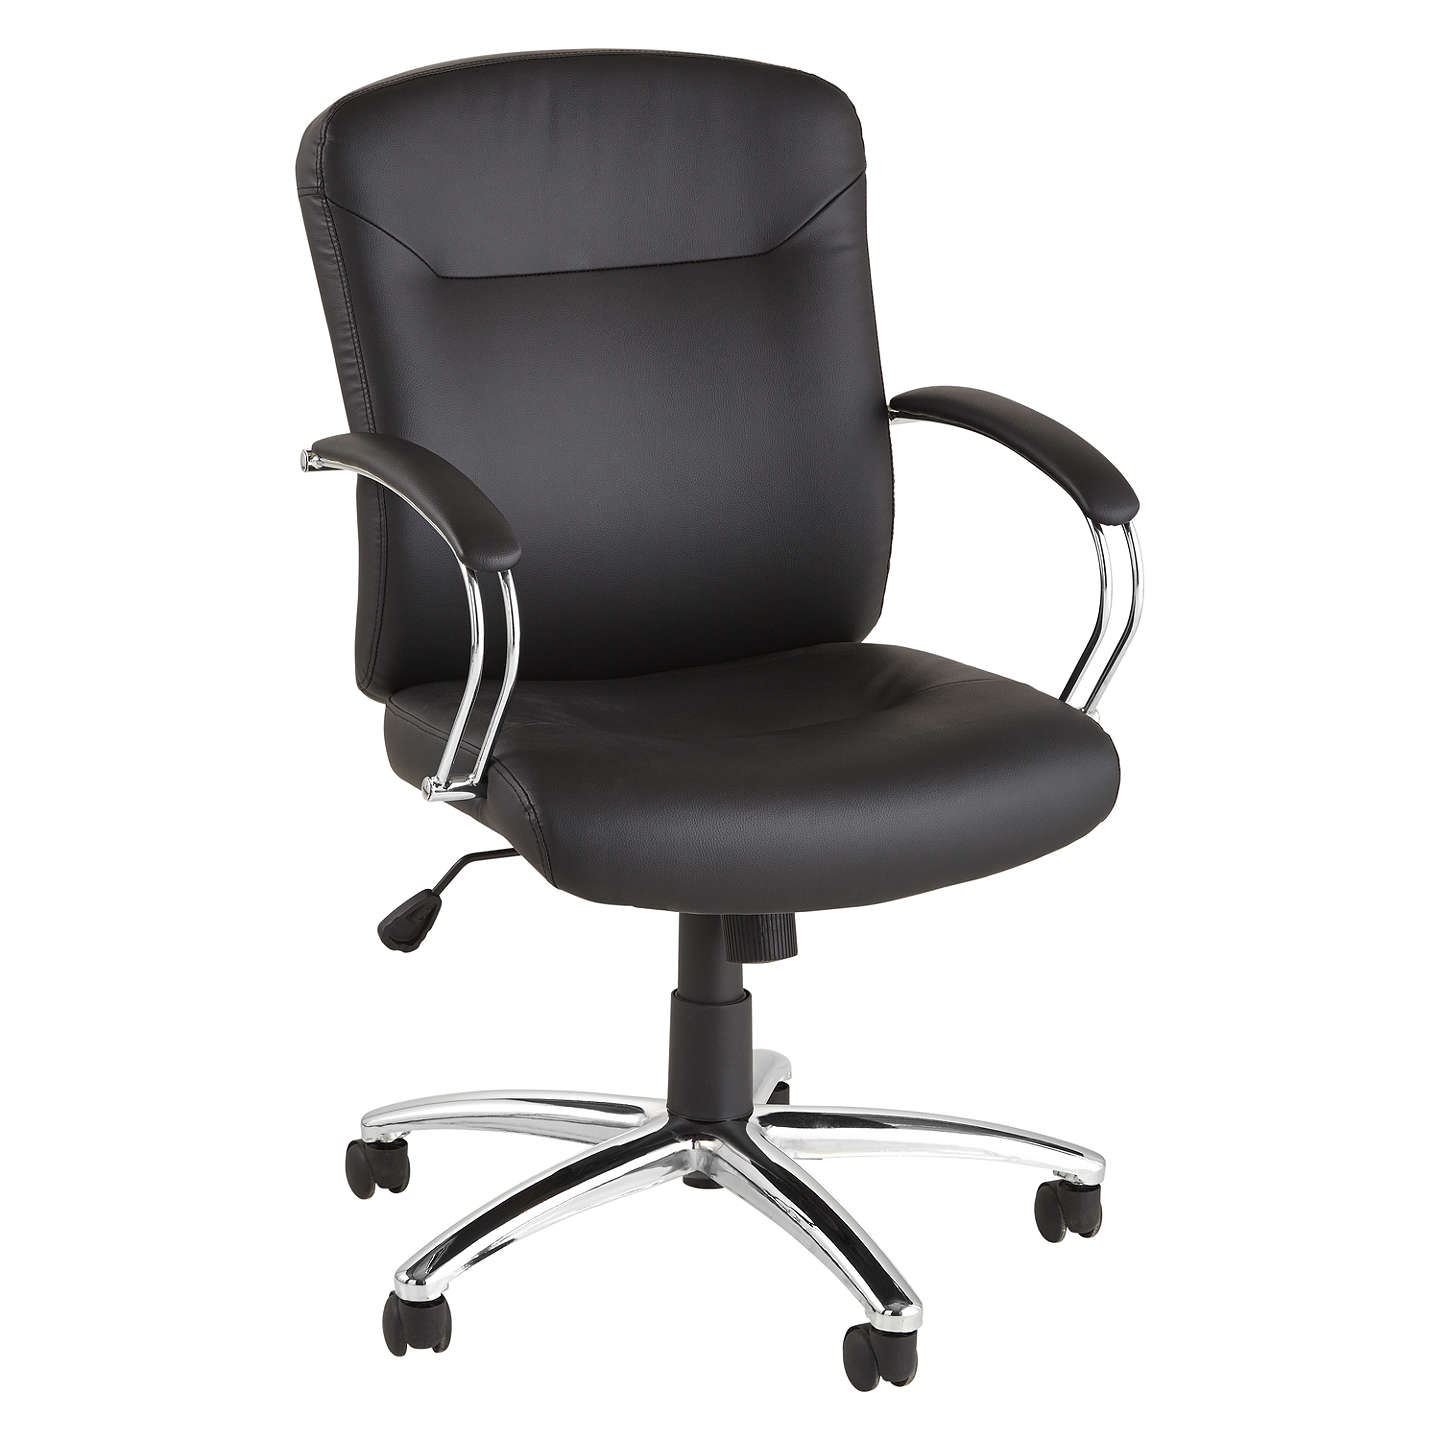chairs: (244, 50, 1154, 1396)
